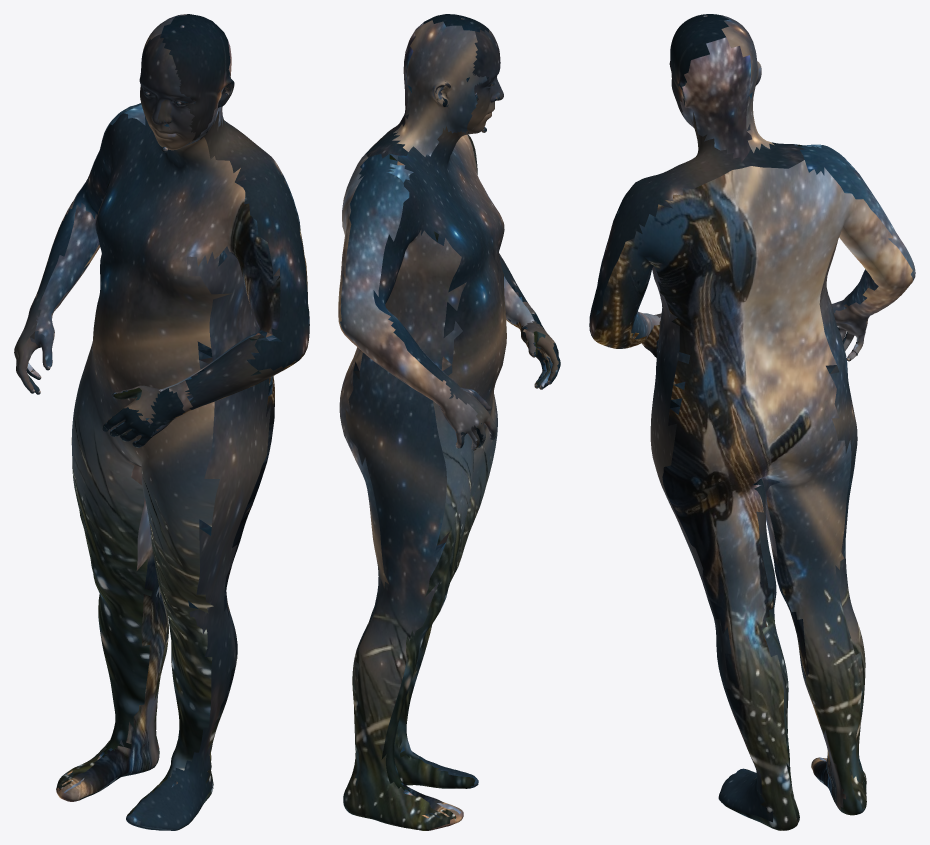
Rendered from quillan_textured.glb.
3 views of the same model, side by side, from view 1: azimuth 30°, elevation 25°; view 2: azimuth 150°, elevation 25°; view 3: azimuth 270°, elevation 25° (orthographic). The views are drawn at different scales.
Visible parts, largest first — view 1: HumanMesh; view 2: HumanMesh; view 3: HumanMesh.
Boxes of the visible parts, x1=… form: HumanMesh: x1=14, y1=14, x2=309, y2=830; HumanMesh: x1=338, y1=14, x2=560, y2=830; HumanMesh: x1=589, y1=14, x2=915, y2=830.
Bounding box in the file's own units: 0.4195 × 1.65 × 0.6218.
1 material, 1 textured.
